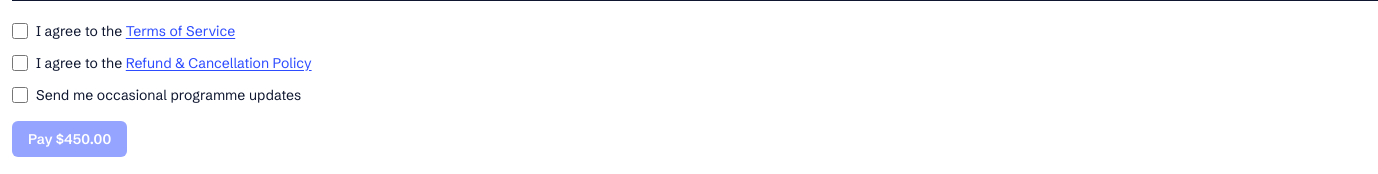
Test case: PolicyConsentForm › makes Pay inert again after unchecking a required control
Click the checkbox labelled "I agree to the Terms of Service" at (20, 31), box [12,23,28,39]
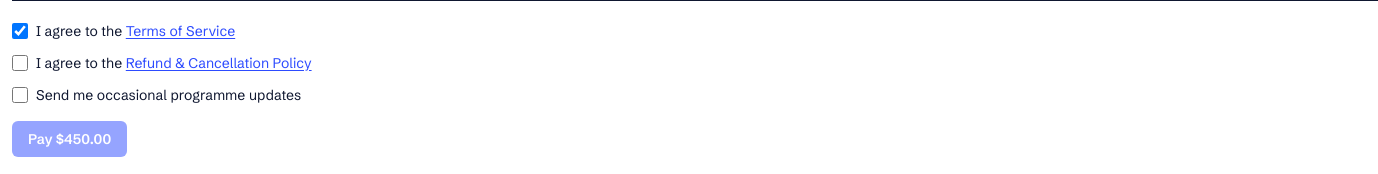
Click the checkbox labelled "I agree to the Refund & Cancellation Policy" at (20, 63), box [12,55,28,71]
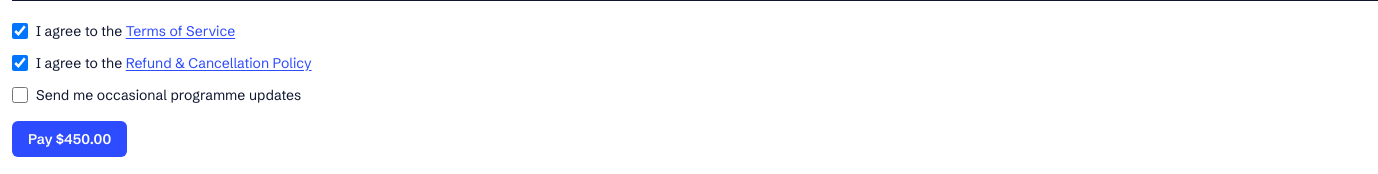
Now the button "Pay $450.00" is enabled, box [12,121,127,157]
Click the checkbox labelled "I agree to the Terms of Service" at (20, 31), box [12,23,28,39]
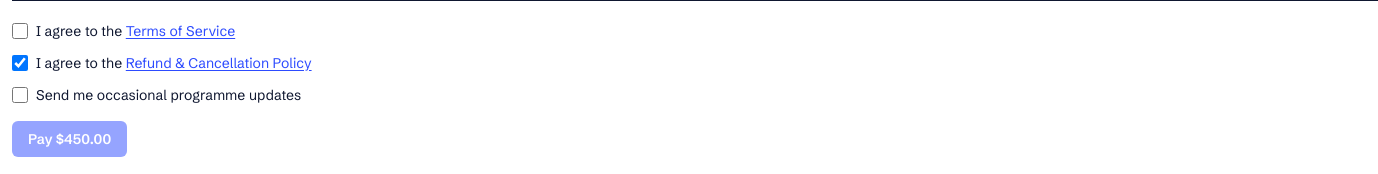
Now the button "Pay $450.00" is disabled, box [12,121,127,157]
